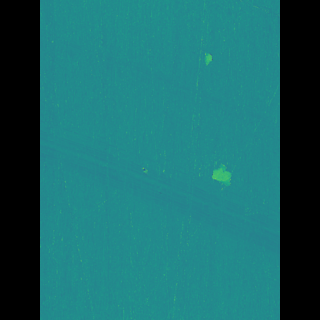Loch: (70, 117, 250, 263), (68, 24, 245, 133), (194, 153, 216, 190), (189, 49, 202, 66)
